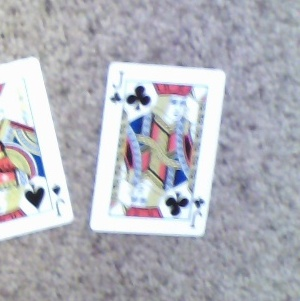card: (89, 60, 226, 241)
